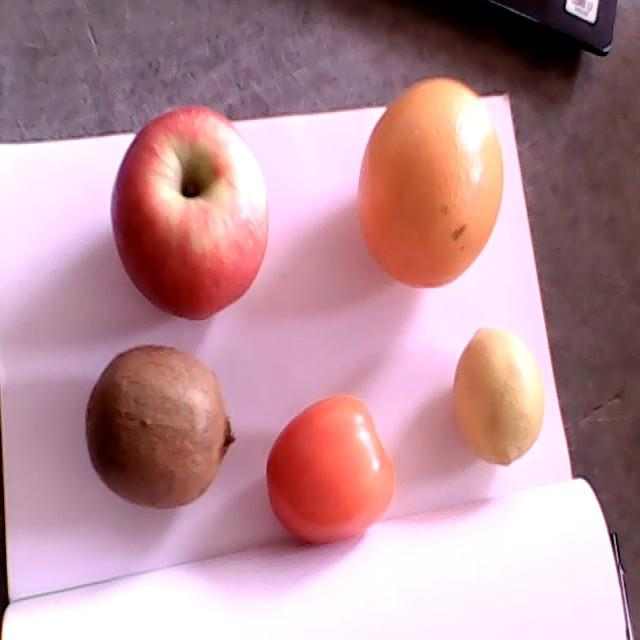apple: (111, 106, 268, 322)
kiwi: (86, 346, 236, 509)
lemon: (454, 328, 545, 466)
orange: (357, 76, 504, 288)
tomato: (266, 394, 395, 545)
